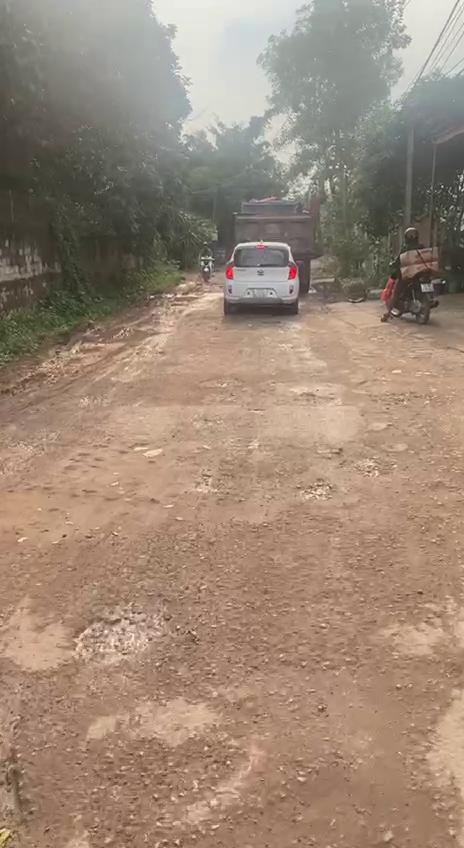pothole: (200, 672, 437, 848), (0, 661, 97, 848), (74, 592, 190, 682), (294, 480, 337, 505), (350, 455, 390, 479)
